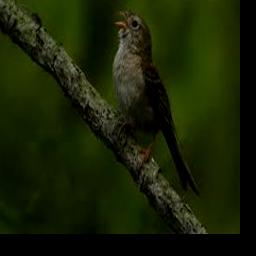Sparrow: (111, 7, 198, 195)
